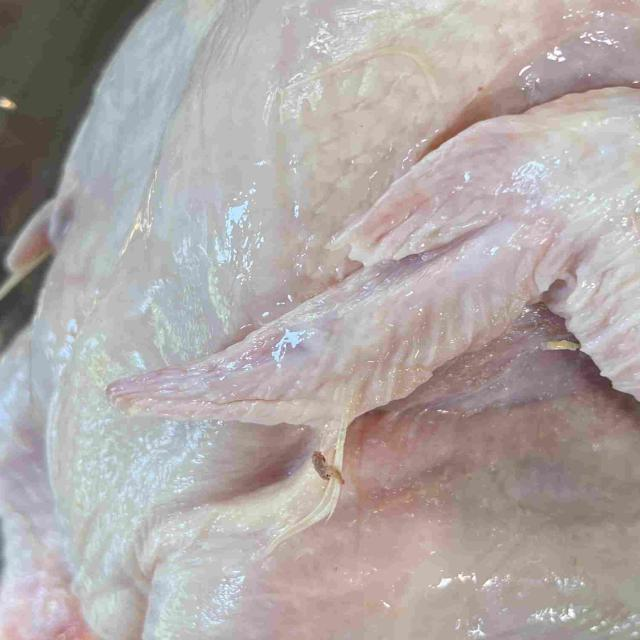leg: (147, 429, 640, 640), (0, 315, 96, 640)
wing: (108, 85, 640, 420)
